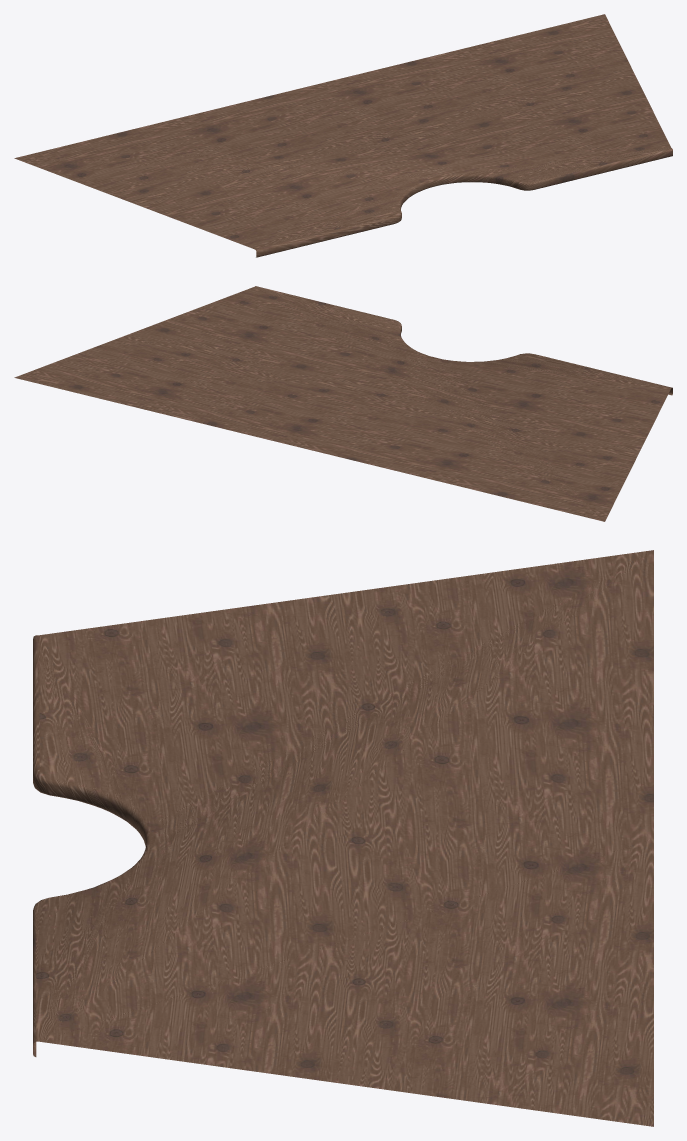
The model's file is workbench-board-processed.glb.
3 renders of one model, top to bottom at view 1: azimuth 30°, elevation 25°; view 2: azimuth 150°, elevation 25°; view 3: azimuth 270°, elevation 25°, orthographic. The views are drawn at different scales.
Parts seen in each view (by area): view 1: board.001; view 2: board.001; view 3: board.001.
Part boxes in pixels (x1,y1,x2,y2): board.001: (14,14,672,257); board.001: (14,286,672,521); board.001: (33,550,653,1126).
Bounding box in the file's own units: 195 × 2.48 × 88.71.
Materials: 1 (1 with a texture image).
